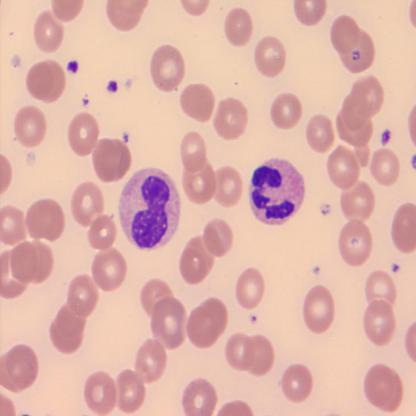Segmented neutrophil: (117, 165, 183, 251), (248, 155, 308, 228)
